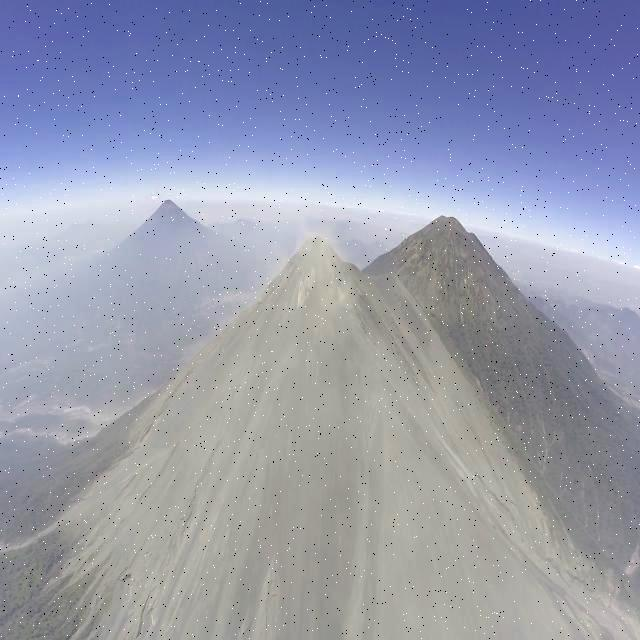Summit: (242, 227, 362, 316)
